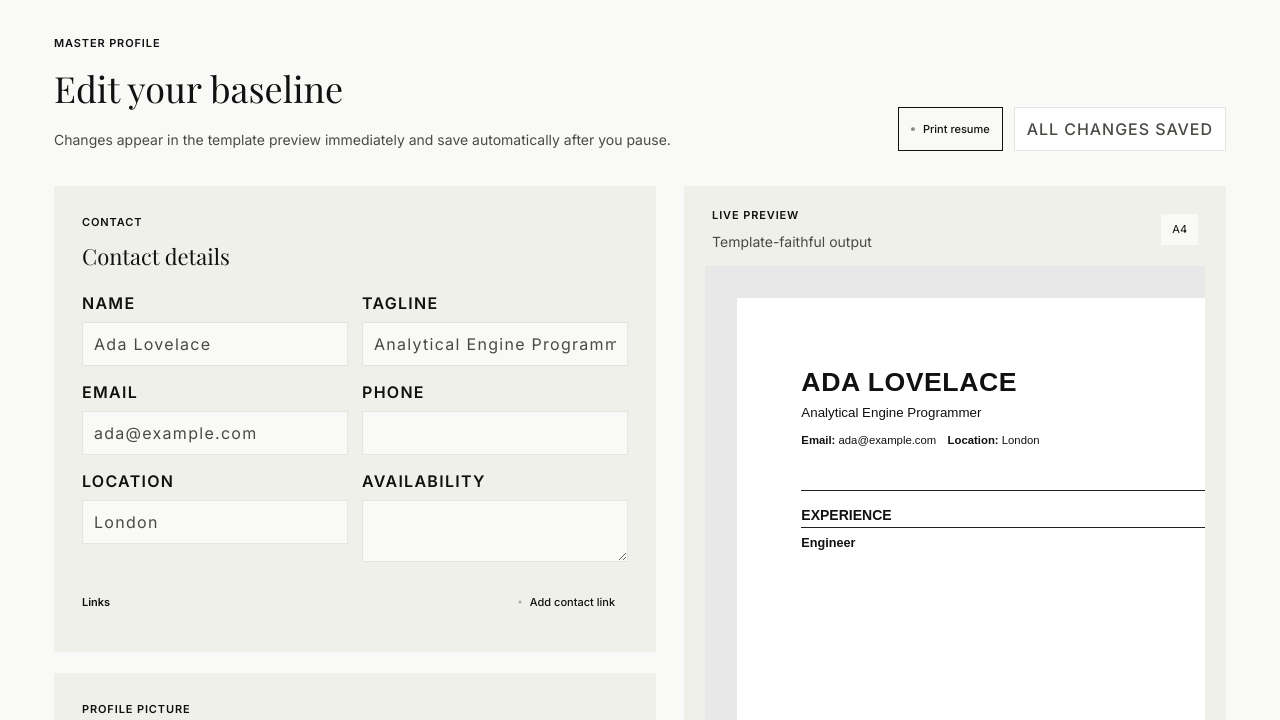
MasterProfileEditor › adds and removes Contact links
Click the button "Add contact link". click: (566, 602)
box: top-left (505, 580), bottom-right (628, 624)
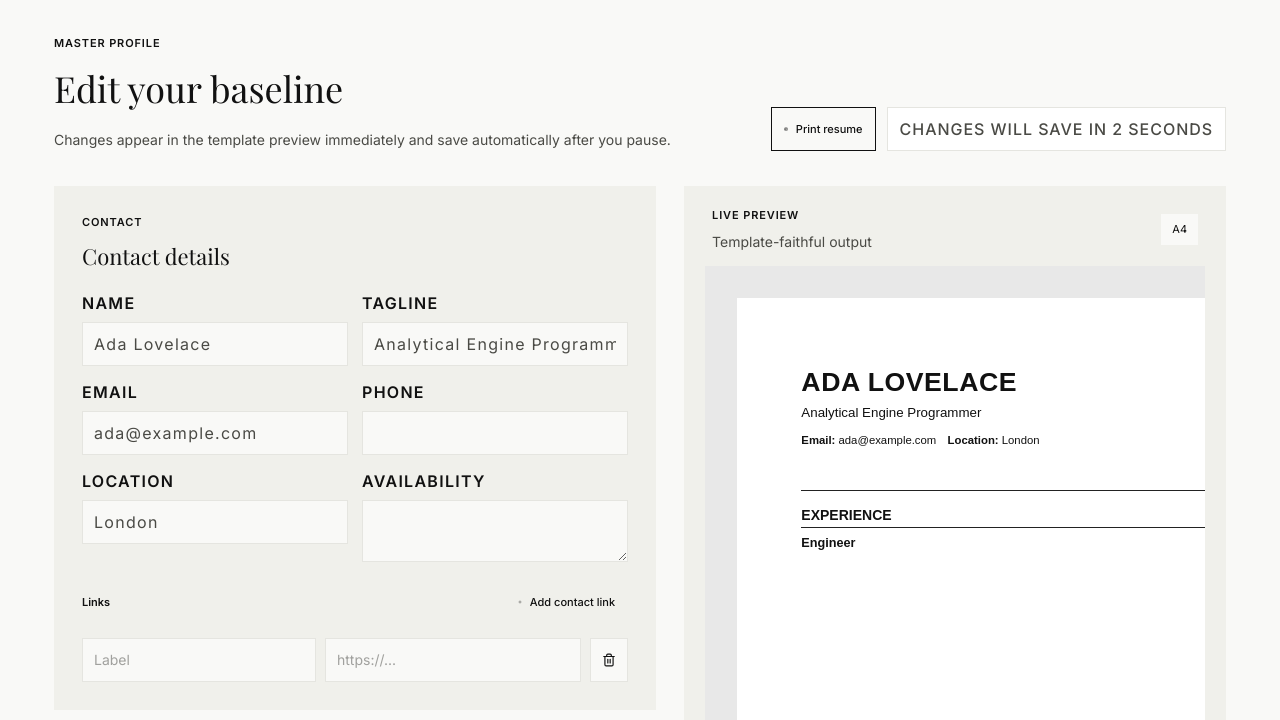
Result: the field named "Contact link 1 label" is shown
Type "Portfolio" into the field named "Contact link 1 label". click: (199, 660)
box: top-left (82, 638), bottom-right (316, 682)
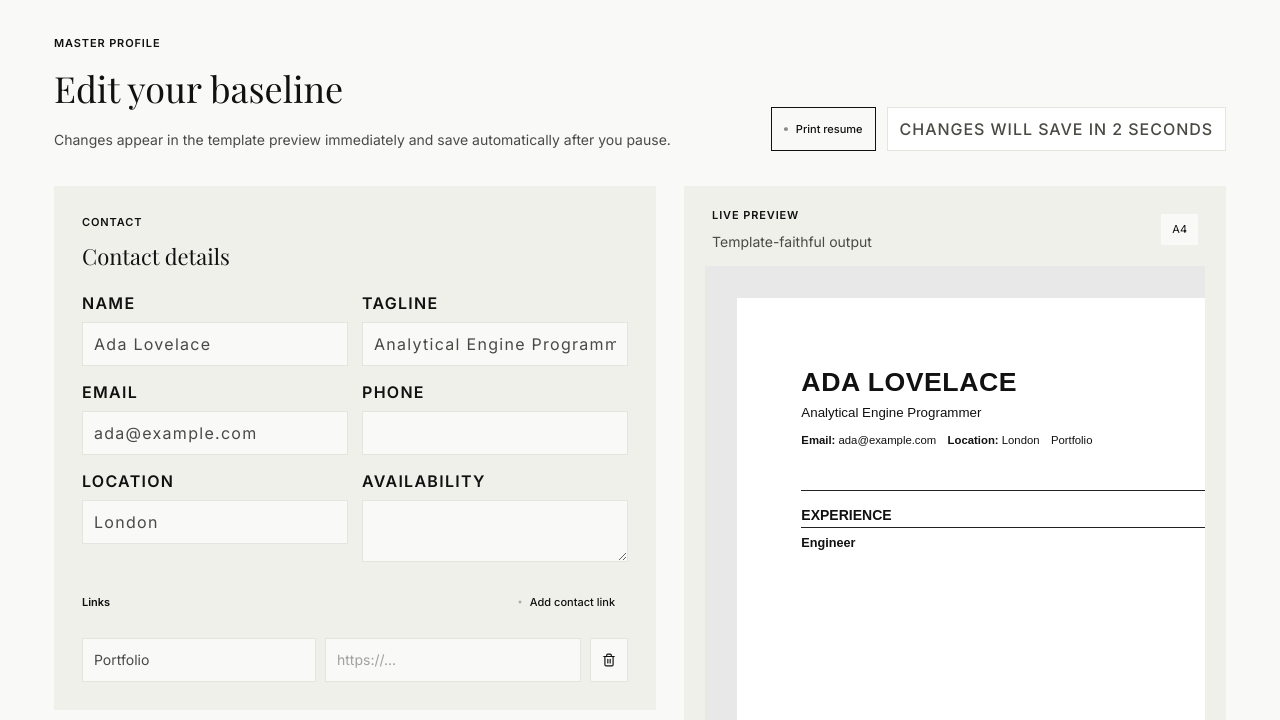
Click the button named "Remove contact link 1". click: (609, 660)
box: top-left (590, 638), bottom-right (628, 682)
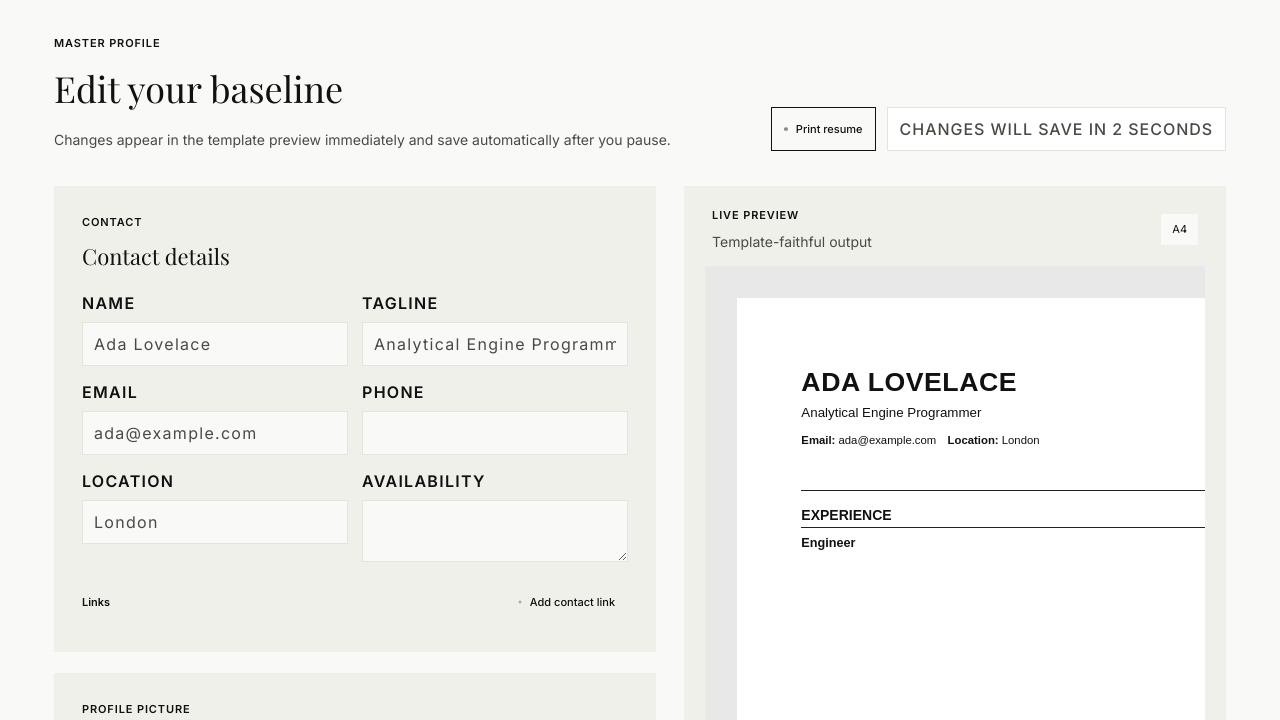
Result: the field labelled "Contact link 1 label" is gone
